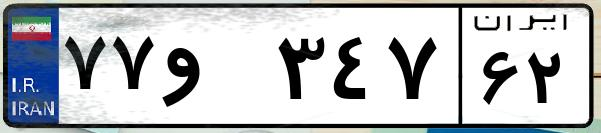2: (525, 38, 570, 115)
3: (270, 28, 330, 110)
4: (330, 28, 385, 110)
6: (475, 38, 525, 113)
7: (385, 28, 445, 110), (57, 26, 110, 100), (110, 28, 158, 98)
و: (158, 20, 270, 120)
